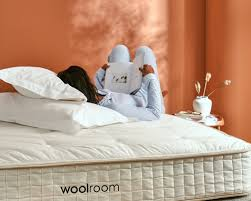bed-matress: (1, 99, 250, 201)
